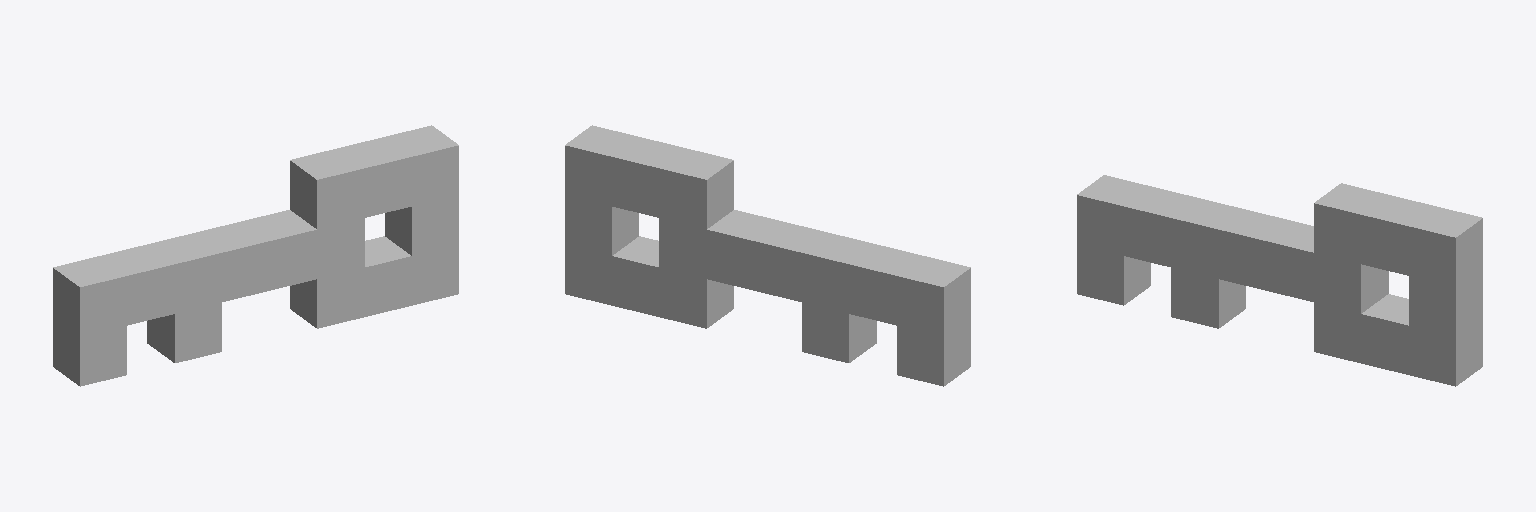
The model's file is Key.obj.
3 views of the same model, side by side, from view 1: azimuth 30°, elevation 25°; view 2: azimuth 150°, elevation 25°; view 3: azimuth 330°, elevation 25° (orthographic).
Visible parts, largest first — view 1: object 1; view 2: object 1; view 3: object 1.
Part boxes in pixels (left/top/right/bottom): object 1: left=53, top=125, right=458, bottom=386; object 1: left=565, top=125, right=970, bottom=386; object 1: left=1077, top=175, right=1482, bottom=386.
Size of the model in its own units: 0.8 by 0.3 by 0.1.